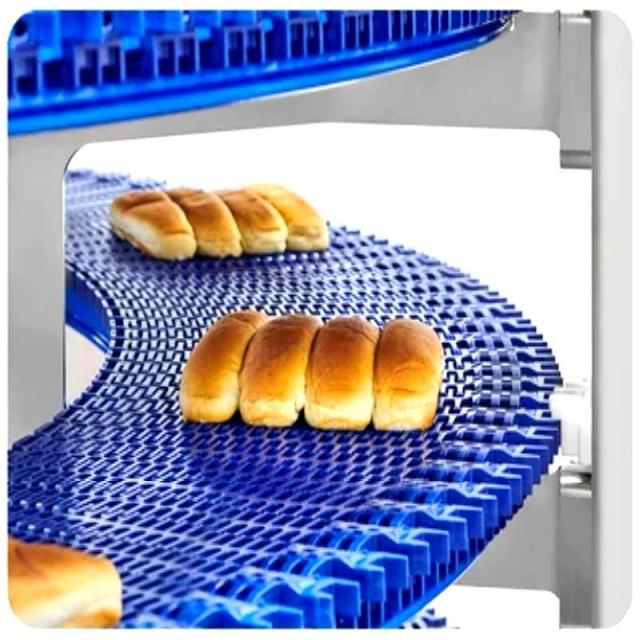food: (177, 305, 443, 435), (108, 185, 333, 262)
